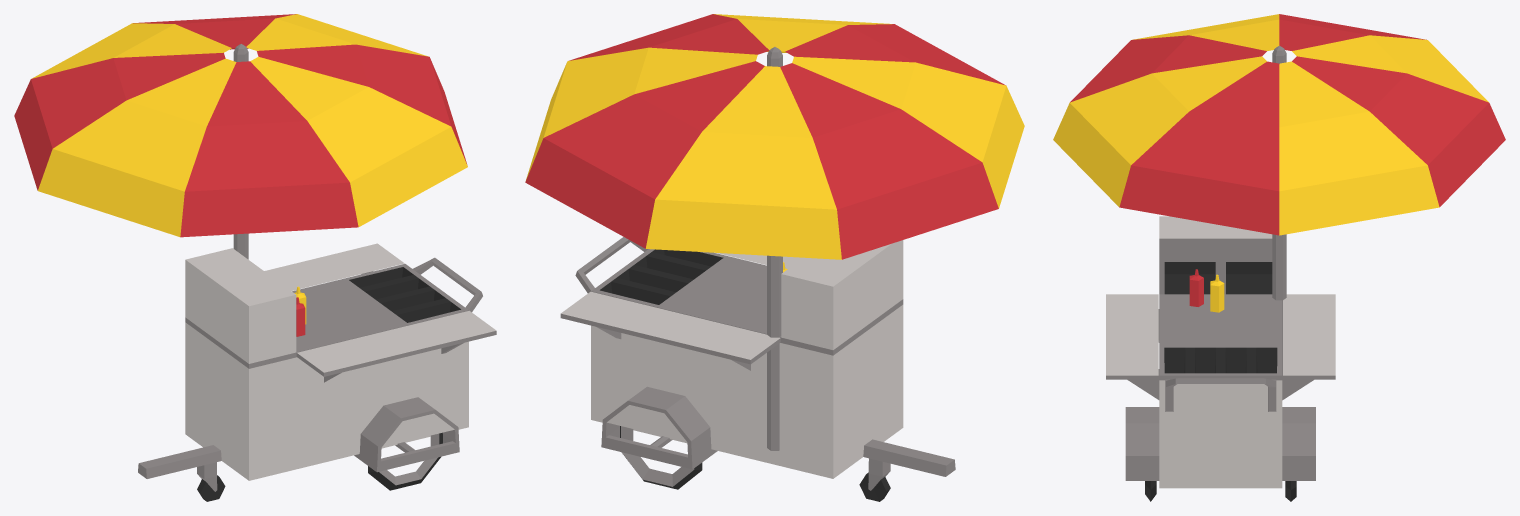
The model's file is hot-dog-stand.glb.
3 views of the same model, side by side, from view 1: azimuth 30°, elevation 25°; view 2: azimuth 150°, elevation 25°; view 3: azimuth 270°, elevation 25° (orthographic). The views are drawn at different scales.
Parts seen in each view (by area): view 1: hot-dog-stand; view 2: hot-dog-stand; view 3: hot-dog-stand.
Boxes of the visible parts, box(x1,y1,x2,y2) form: hot-dog-stand: box(14, 14, 496, 501); hot-dog-stand: box(525, 14, 1024, 501); hot-dog-stand: box(1053, 14, 1505, 501).
Size of the model in its own units: 2.58 by 2.54 by 2.58.
1 material, 1 textured.
